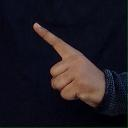hand: (32, 21, 105, 108)
